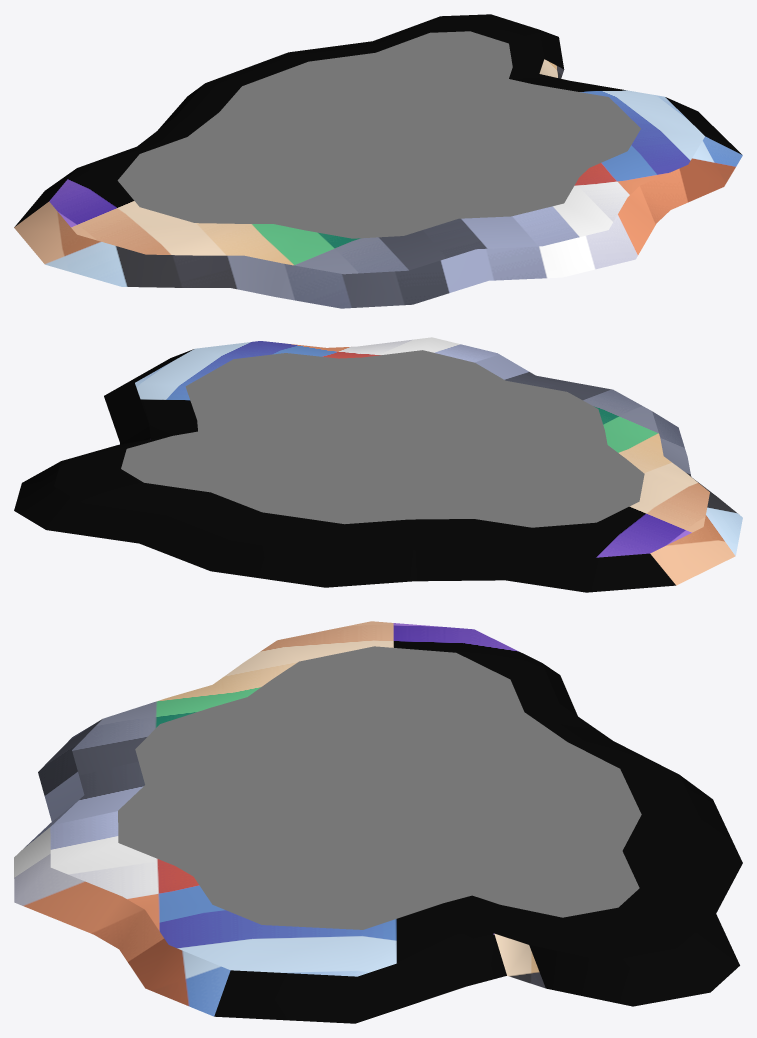
The model's file is SM_PatchSandGrass_A.fbx.
3 views of the same model, one above another, from view 1: azimuth 30°, elevation 25°; view 2: azimuth 150°, elevation 25°; view 3: azimuth 270°, elevation 25° (orthographic). The views are drawn at different scales.
Parts seen in each view (by area): view 1: SM_PatchSand_A; view 2: SM_PatchSand_A; view 3: SM_PatchSand_A.
Part boxes in pixels (bbox=[...]): SM_PatchSand_A: bbox=[14, 14, 742, 308]; SM_PatchSand_A: bbox=[14, 337, 742, 592]; SM_PatchSand_A: bbox=[14, 621, 742, 1023].
Bounding box in the file's own units: 341 × 16.63 × 266.
